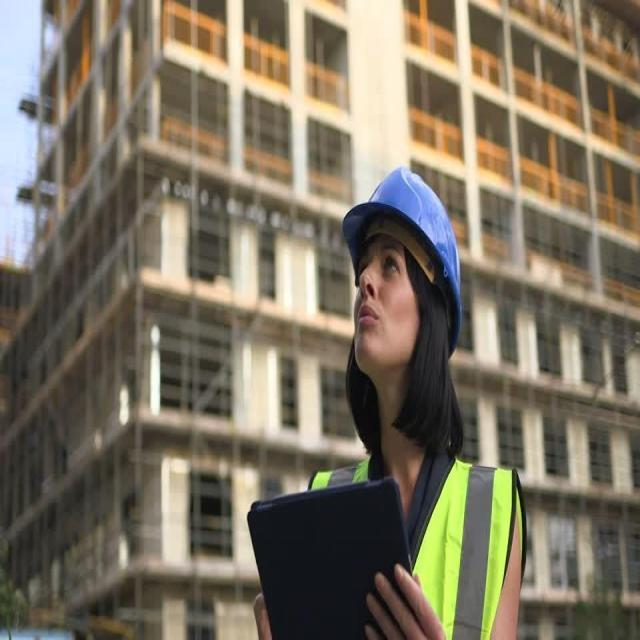hat: (336, 161, 464, 442)
